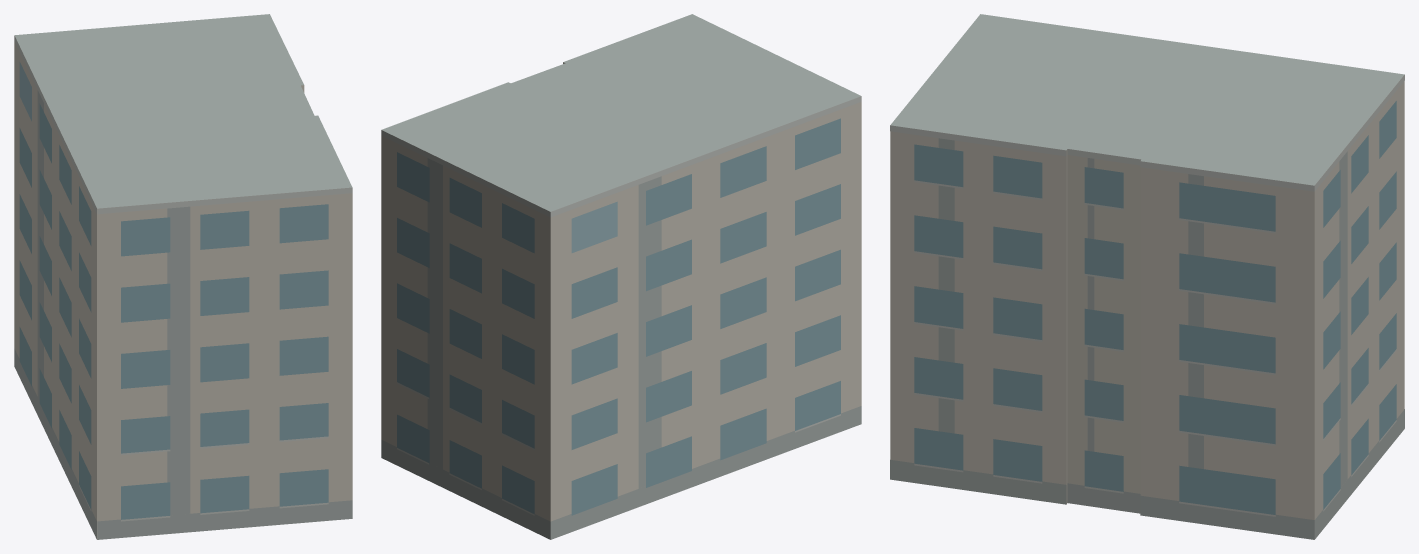
File: survey-upis-32527858.glb
3 views of the same model, side by side, from view 1: azimuth 30°, elevation 25°; view 2: azimuth 150°, elevation 25°; view 3: azimuth 270°, elevation 25° (orthographic). The views are drawn at different scales.
Visible parts, largest first — view 1: survey-upis-32527858.tmp; view 2: survey-upis-32527858.tmp; view 3: survey-upis-32527858.tmp.
Boxes of the visible parts, x1,y1,x2,y2 form: survey-upis-32527858.tmp: (14, 14, 352, 539); survey-upis-32527858.tmp: (381, 14, 861, 539); survey-upis-32527858.tmp: (890, 14, 1404, 539).
Bounding box in the file's own units: 14.77 × 14.2 × 18.71.
